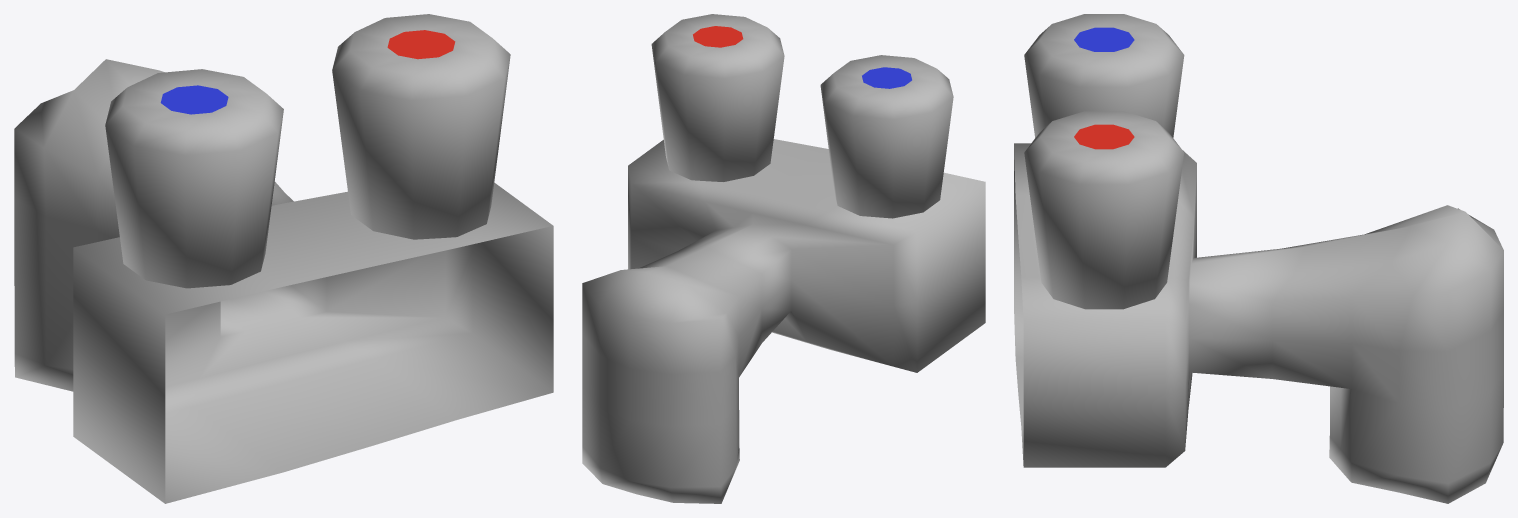
Rendered from props_bath_sink.fbx.
The picture shows the model from 3 angles, left to right: view 1: azimuth 30°, elevation 25°; view 2: azimuth 150°, elevation 25°; view 3: azimuth 270°, elevation 25°; orthographic projection. The views are drawn at different scales.
Visible parts, largest first — view 1: Cylinder.001; view 2: Cylinder.001; view 3: Cylinder.001.
Boxes of the visible parts, box(x1,y1,x2,y2) form: Cylinder.001: box(14, 14, 553, 503); Cylinder.001: box(582, 14, 985, 503); Cylinder.001: box(1014, 14, 1503, 503).
Bounding box in the file's own units: 0.6396 × 0.7861 × 0.6669.
